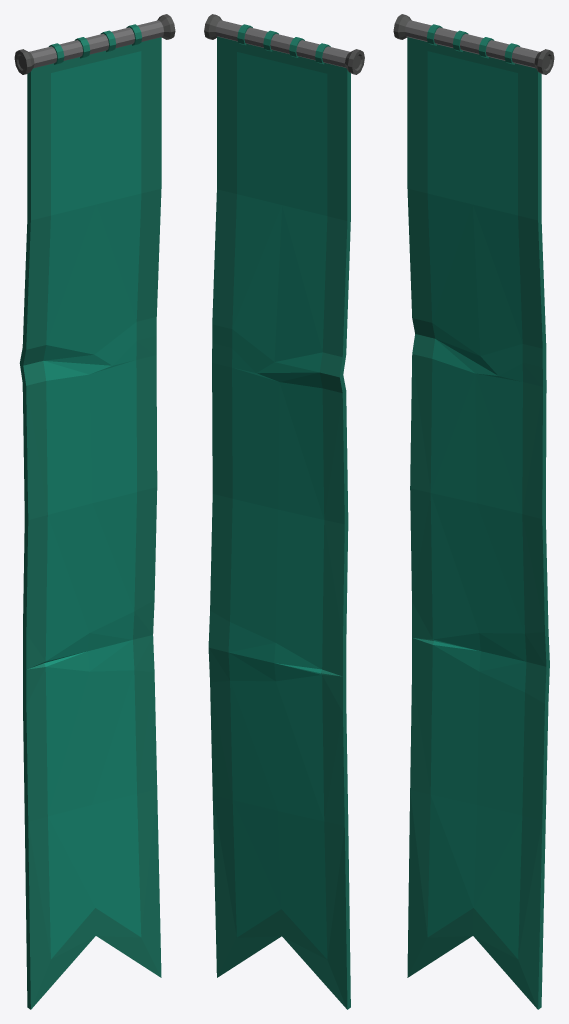
The model's file is SFHW_Banner_003.fbx.
3 renders of one model, left to right at view 1: azimuth 30°, elevation 25°; view 2: azimuth 150°, elevation 25°; view 3: azimuth 330°, elevation 25°, orthographic.
Visible parts, largest first — view 1: SFHW_Banner_003; view 2: SFHW_Banner_003; view 3: SFHW_Banner_003.
Part boxes in pixels (x1,y1,x2,y2): SFHW_Banner_003: (14, 14, 175, 1009); SFHW_Banner_003: (204, 14, 364, 1009); SFHW_Banner_003: (393, 14, 554, 1009).
Size of the model in its own units: 26.61 by 165 by 5.35.
